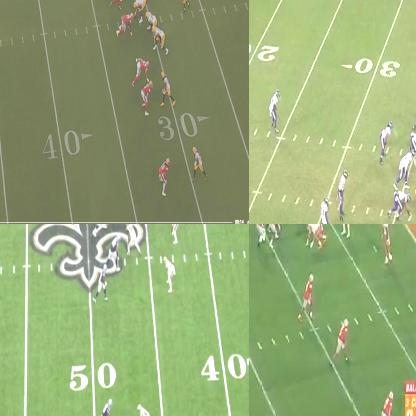CENTER: (131, 0, 146, 13)
DB: (383, 224, 395, 269), (269, 89, 279, 128), (338, 171, 346, 218), (142, 81, 152, 116), (161, 157, 171, 192), (319, 197, 329, 223), (136, 402, 151, 415)
LB: (379, 119, 392, 158), (398, 150, 412, 183), (164, 256, 174, 293), (168, 224, 180, 245), (337, 224, 351, 233), (114, 0, 125, 8)
QB: (180, 0, 189, 16)
SKILL: (330, 318, 346, 360), (301, 271, 313, 321), (108, 234, 121, 271), (378, 390, 396, 415), (163, 70, 174, 106), (98, 264, 108, 302), (256, 224, 268, 249), (98, 399, 116, 415), (195, 149, 206, 175)
